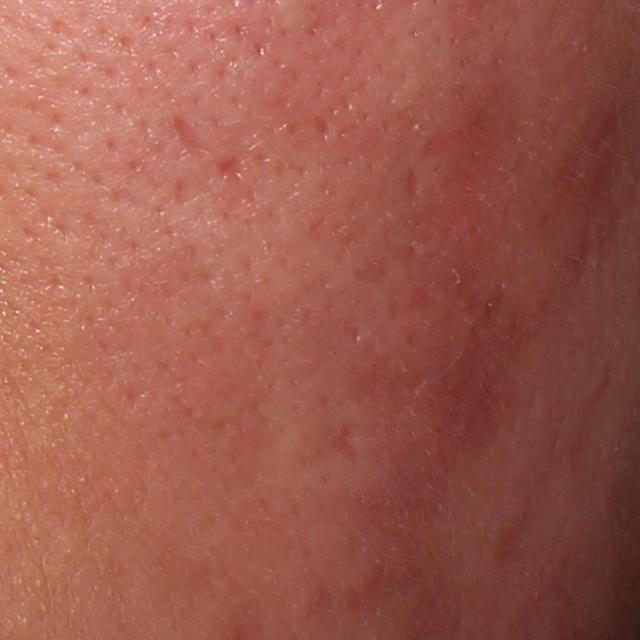atrophic_scar: (309, 415, 363, 467), (172, 111, 210, 153), (211, 152, 251, 183), (312, 110, 336, 140), (405, 168, 420, 200)
